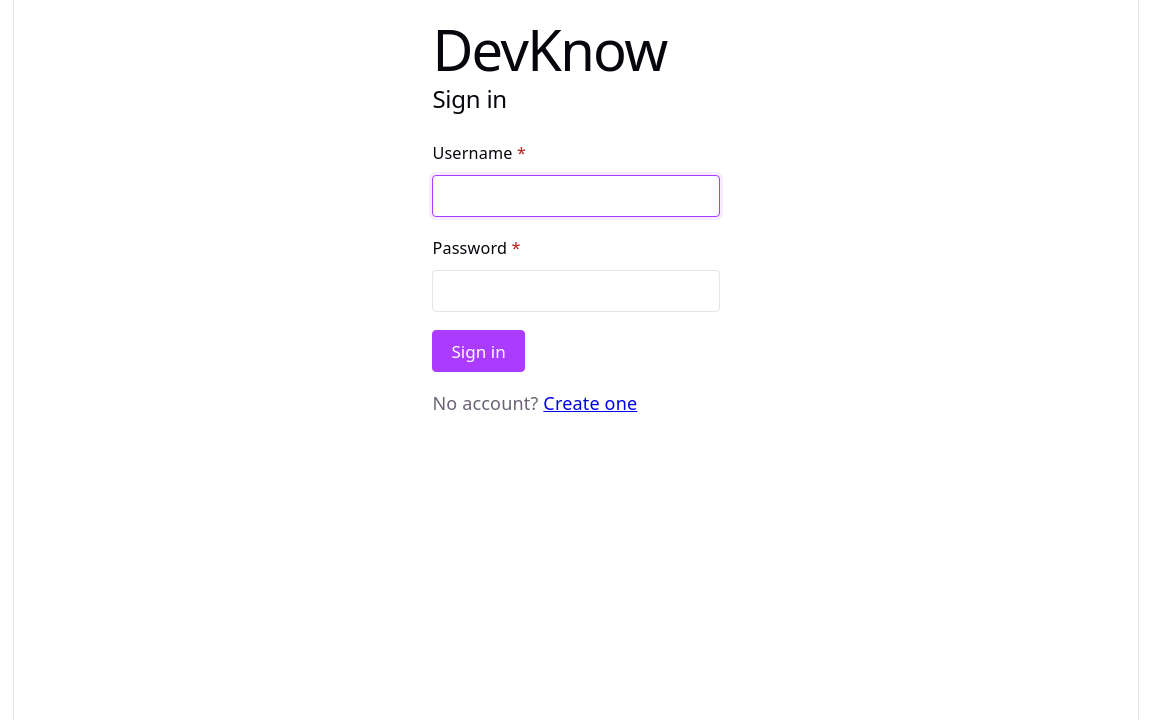
Test case: LoginPage › shows error message on failed login
Type "dev" into the field labelled "Username" at (576, 196), box [432, 175, 720, 217]
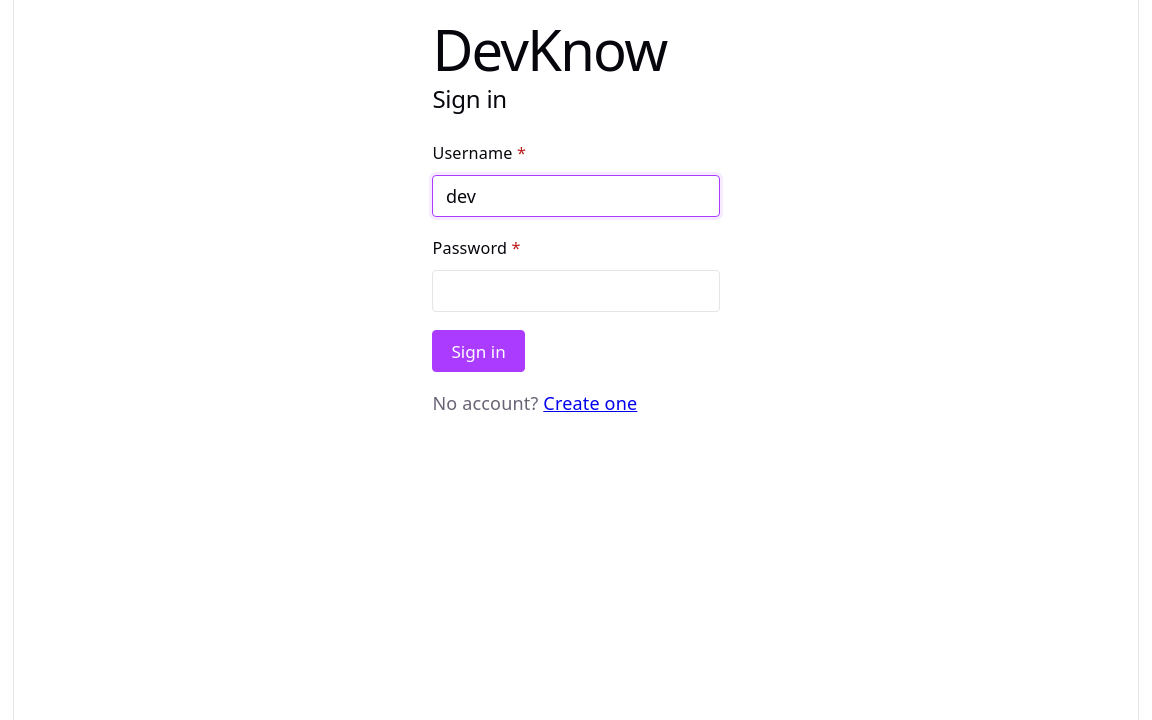
Type "wrongpassword" into the password field labelled "Password" at (576, 291), box [432, 270, 720, 312]
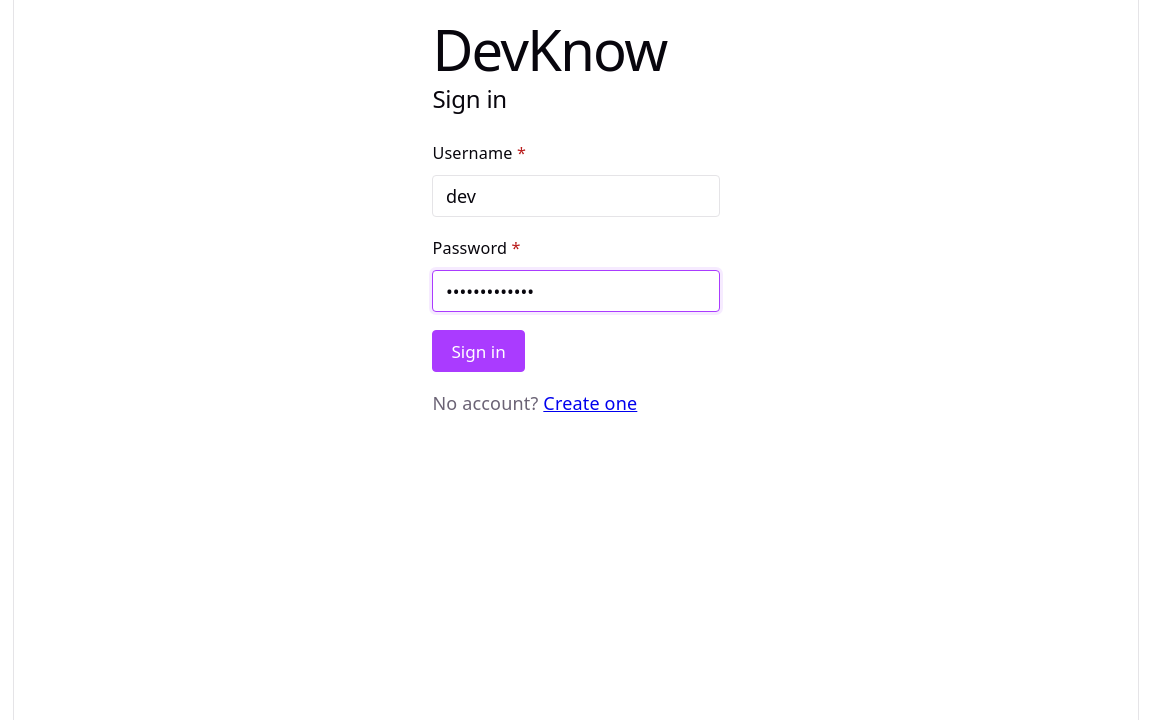
Click the button "Sign in" at (479, 351), box [432, 330, 525, 372]
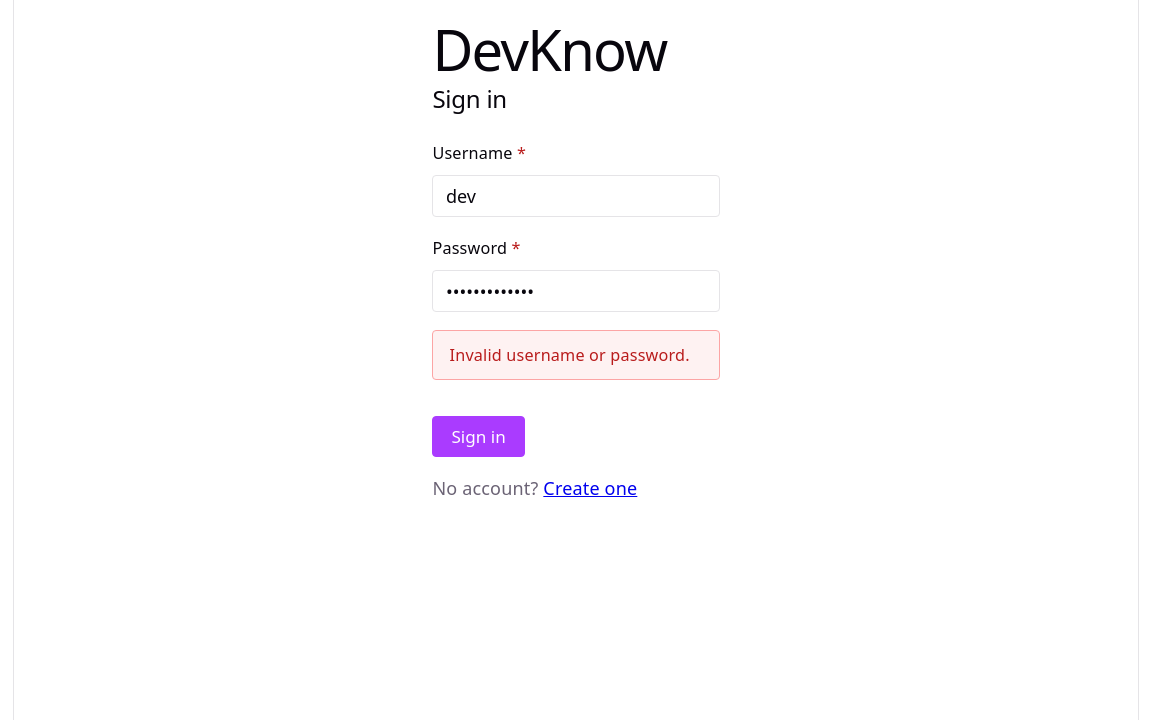
Result: the message reads "Invalid username or password." at [450, 344, 690, 366]
